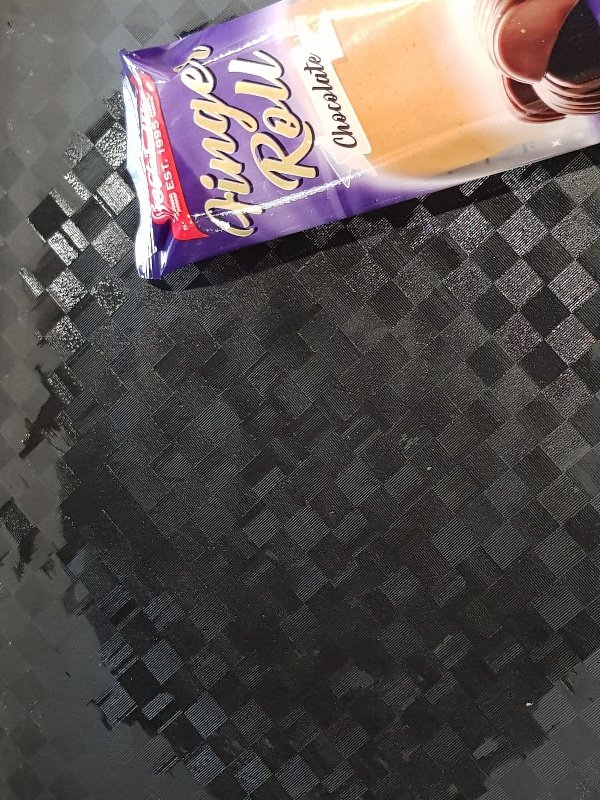Tinges Roll Chocolate: (120, 1, 600, 280)
